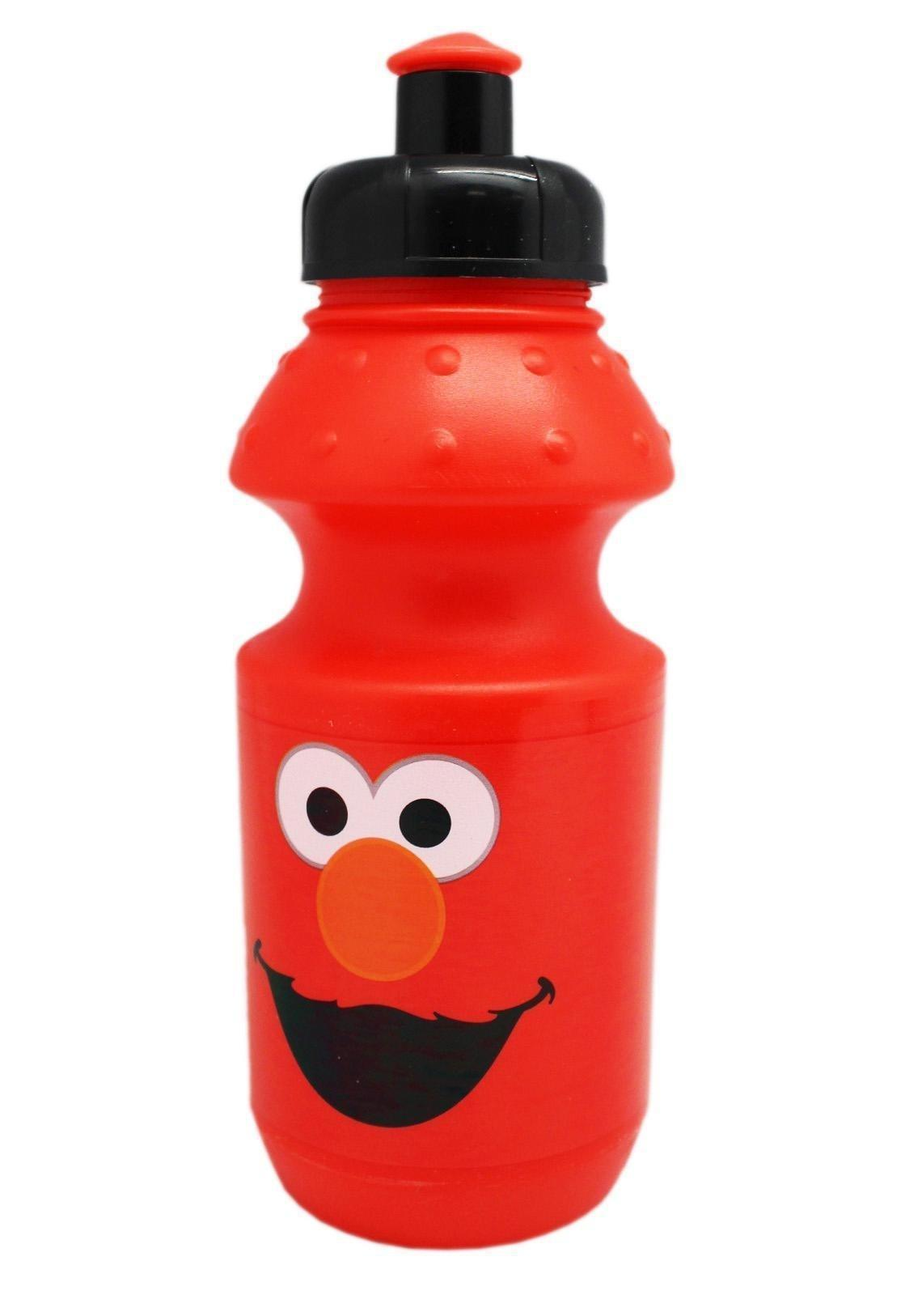gym bottle: (210, 36, 685, 1255)
